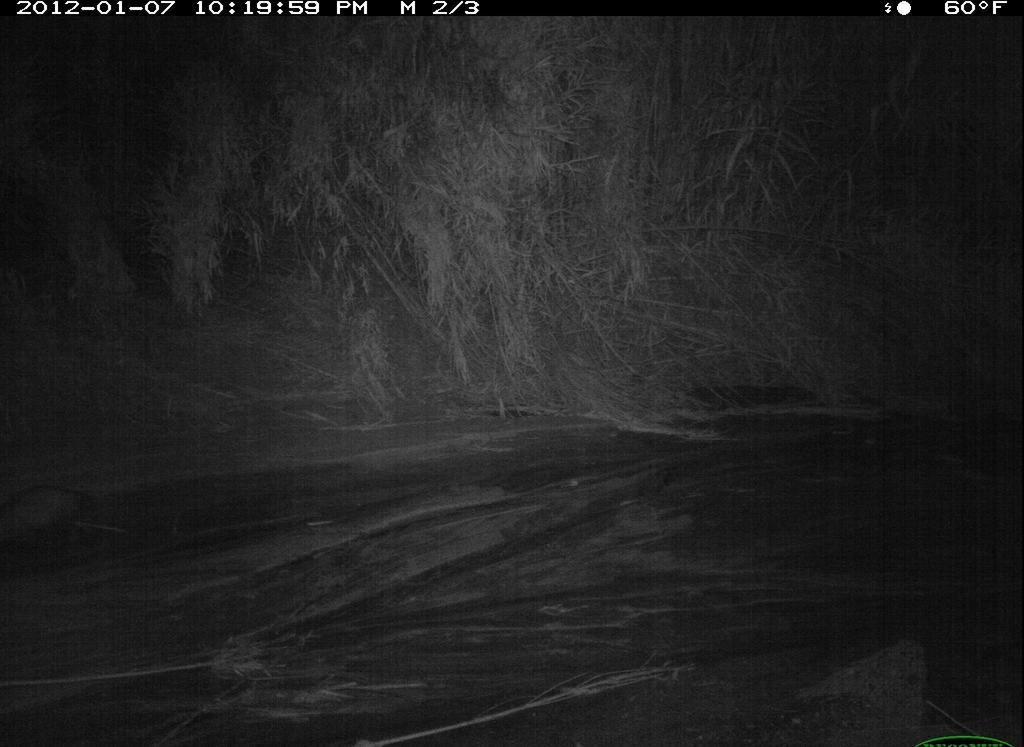opossum: (7, 478, 105, 562)
